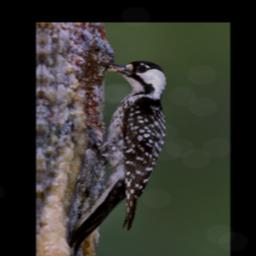Woodpecker: (70, 59, 170, 255)
